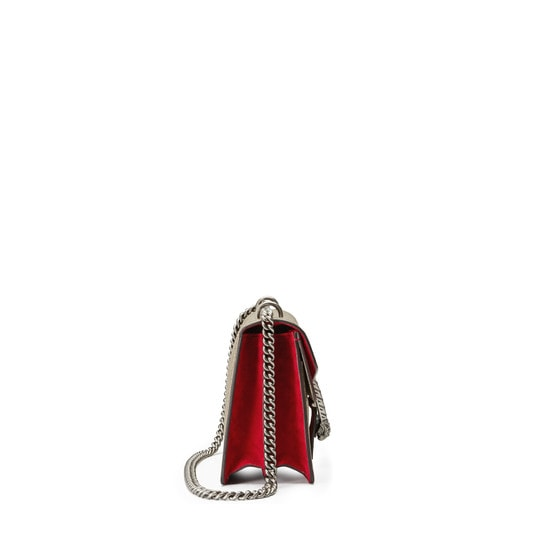Gucci: (189, 299, 330, 495), (296, 353, 331, 451)
